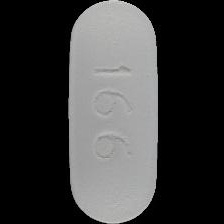68788-9890: (0, 0, 224, 224)
